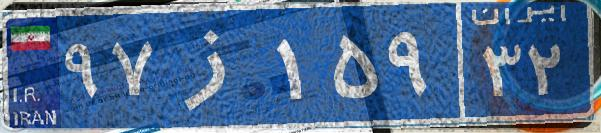1: (273, 28, 330, 110)
2: (525, 38, 570, 115)
3: (475, 38, 525, 113)
5: (330, 28, 385, 110)
7: (110, 28, 158, 105)
9: (385, 28, 445, 110), (57, 26, 110, 107)
ز: (158, 15, 273, 115)
